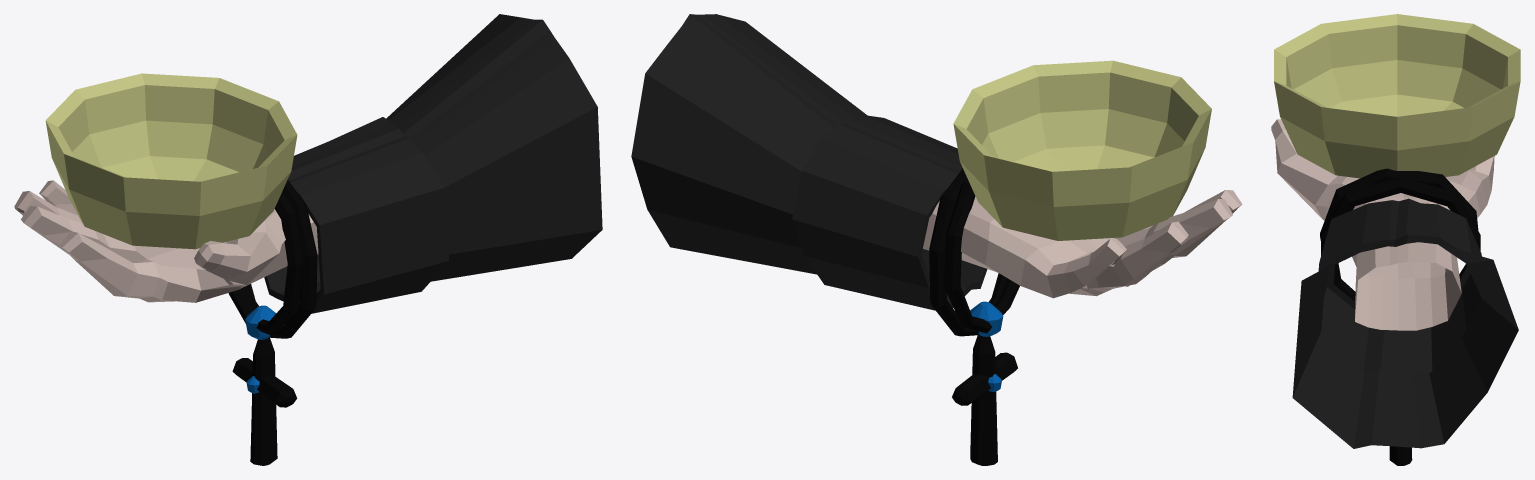
File: PriestHand.fbx
3 views of the same model, side by side, from view 1: azimuth 30°, elevation 25°; view 2: azimuth 150°, elevation 25°; view 3: azimuth 270°, elevation 25° (orthographic). The views are drawn at different scales.
Visible parts, largest first — view 1: PriestHand; view 2: PriestHand; view 3: PriestHand.
Boxes of the visible parts, bbox=[...] form: PriestHand: bbox=[14, 14, 602, 465]; PriestHand: bbox=[631, 14, 1242, 465]; PriestHand: bbox=[1271, 14, 1520, 465].
Bounding box in the file's own units: 36.87 × 25.09 × 15.5.
